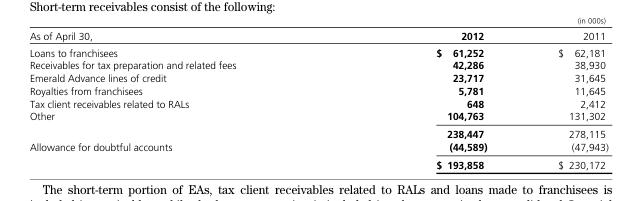table: (28, 29, 607, 170)
table column: (28, 29, 335, 170), (335, 29, 521, 170), (521, 29, 607, 170)
table column header: (28, 29, 607, 43)
table row: (28, 124, 607, 140), (28, 43, 607, 58), (28, 109, 607, 124), (28, 140, 607, 155), (28, 155, 607, 170), (28, 29, 607, 43), (28, 58, 607, 71), (28, 83, 607, 96), (28, 96, 607, 109), (28, 71, 607, 83)
